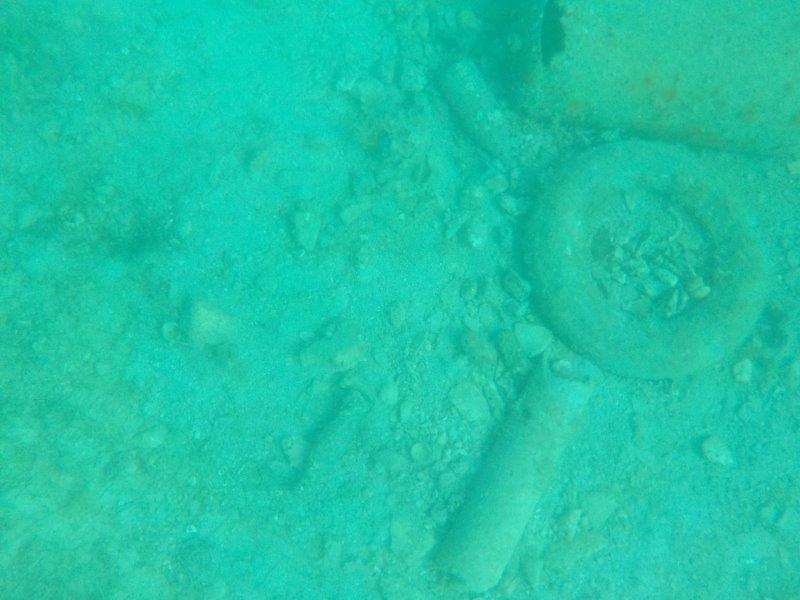bottle: (425, 52, 529, 177), (286, 382, 380, 508)
tire: (528, 127, 774, 384)
